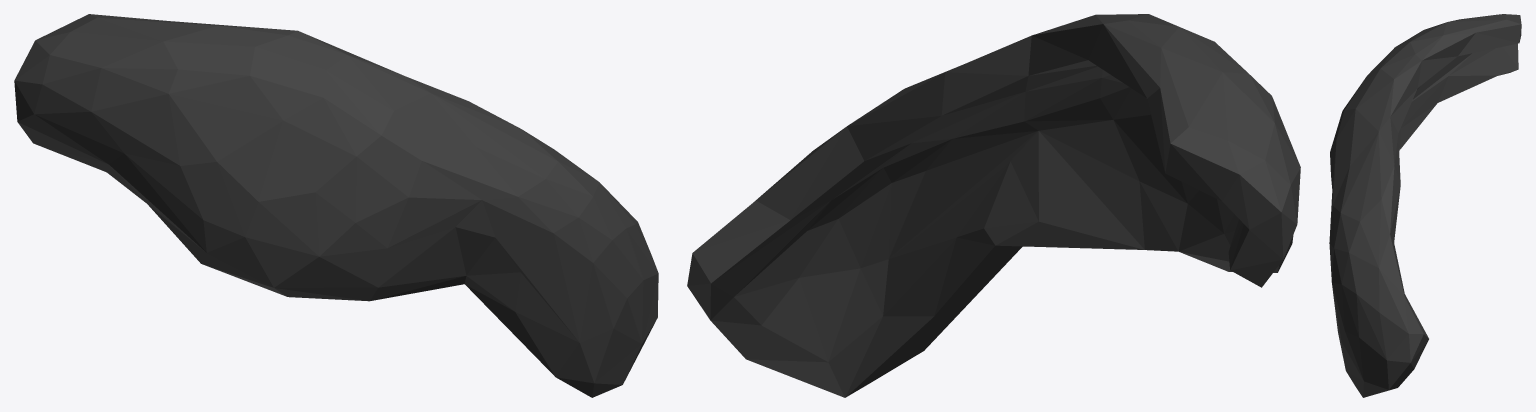
The model's file is Calcaneus_lateral_process.glb.
3 views of the same model, side by side, from view 1: azimuth 30°, elevation 25°; view 2: azimuth 150°, elevation 25°; view 3: azimuth 270°, elevation 25° (orthographic). The views are drawn at different scales.
Parts seen in each view (by area): view 1: Calcaneus_lateral_process; view 2: Calcaneus_lateral_process; view 3: Calcaneus_lateral_process.
Boxes of the visible parts, bbox=[...] form: Calcaneus_lateral_process: bbox=[14, 14, 658, 397]; Calcaneus_lateral_process: bbox=[687, 14, 1300, 397]; Calcaneus_lateral_process: bbox=[1329, 14, 1521, 397].
Bounding box in the file's own units: 0.019 × 0.0129 × 0.00878.
1 material, 1 textured.
